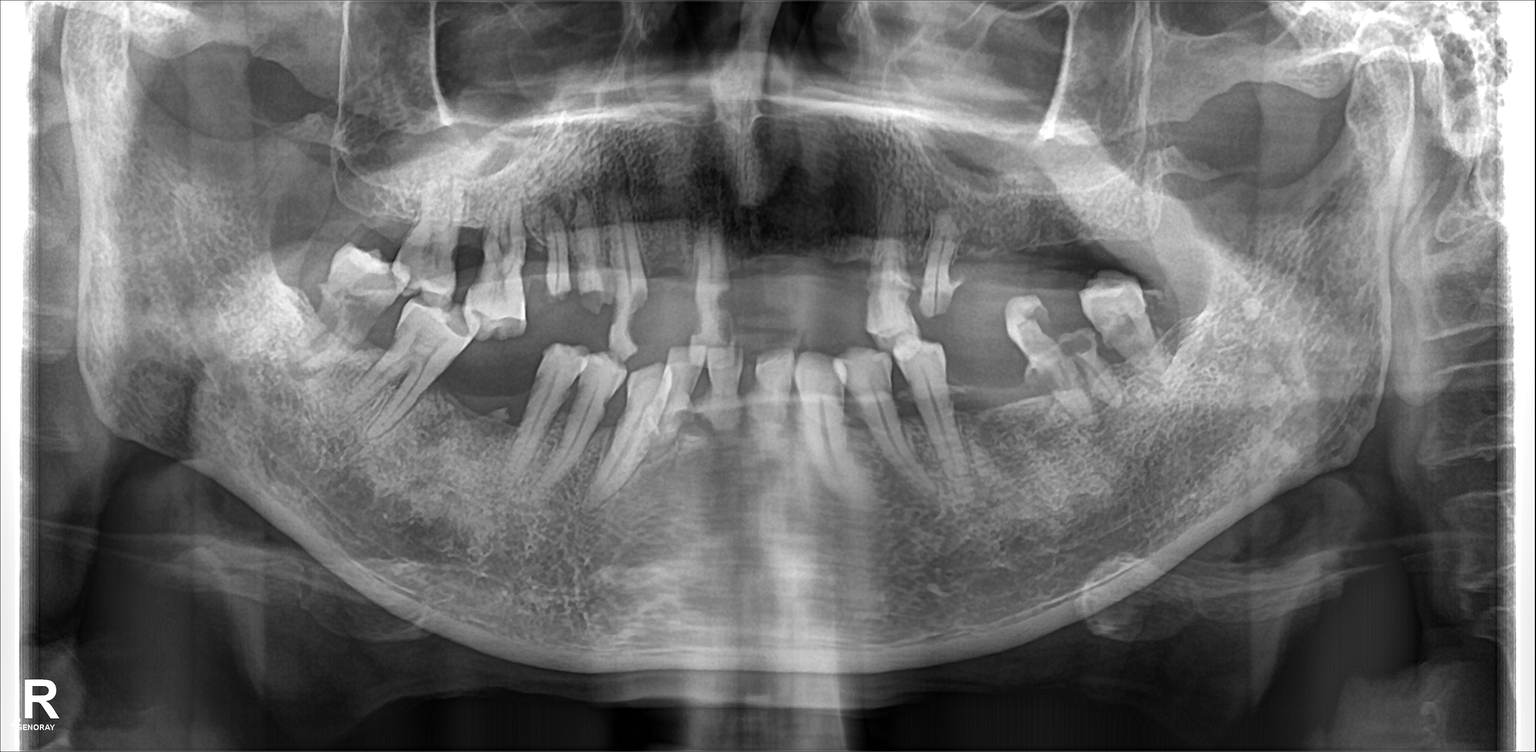Dental Caries: (333, 285, 374, 350), (615, 292, 645, 347), (1060, 337, 1101, 372), (929, 268, 965, 304), (1032, 300, 1056, 328)
Missing Tooth: (790, 235, 836, 343), (750, 222, 796, 325), (312, 166, 361, 261), (642, 253, 697, 329), (475, 344, 523, 431), (358, 173, 404, 256), (963, 346, 1004, 431), (976, 229, 1013, 302), (1022, 233, 1056, 288), (1073, 203, 1091, 271)
Retained Root: (1013, 300, 1068, 419), (529, 207, 581, 317), (916, 210, 961, 316), (579, 203, 614, 325)
